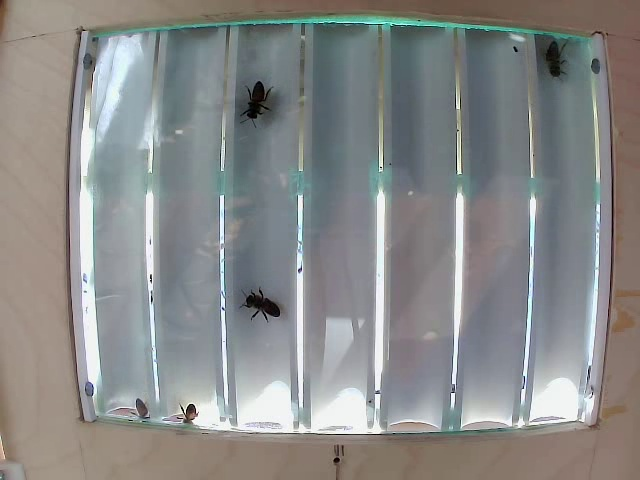bee: (233, 282, 295, 334), (234, 79, 278, 119), (535, 31, 564, 78)
